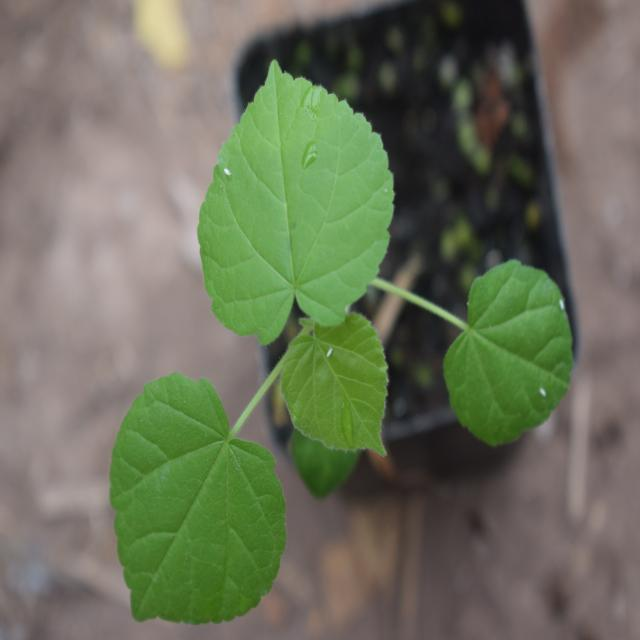abutilon theophrasti: (101, 73, 561, 620)
